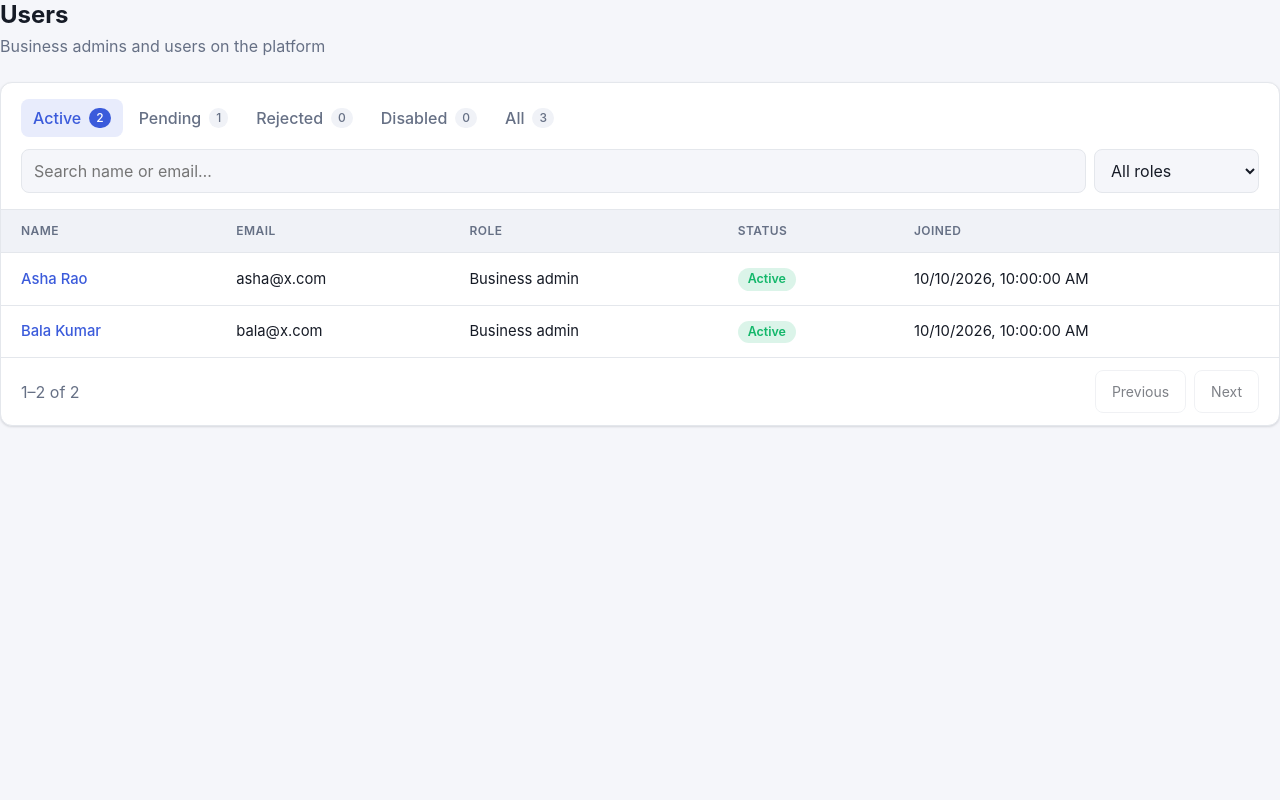
Test case: UsersPage › opens a details panel and closes it
The width and height of the screenshot is (1280, 800).
Click the tab "All 3". click: (530, 118)
box: [493,99,566,137]
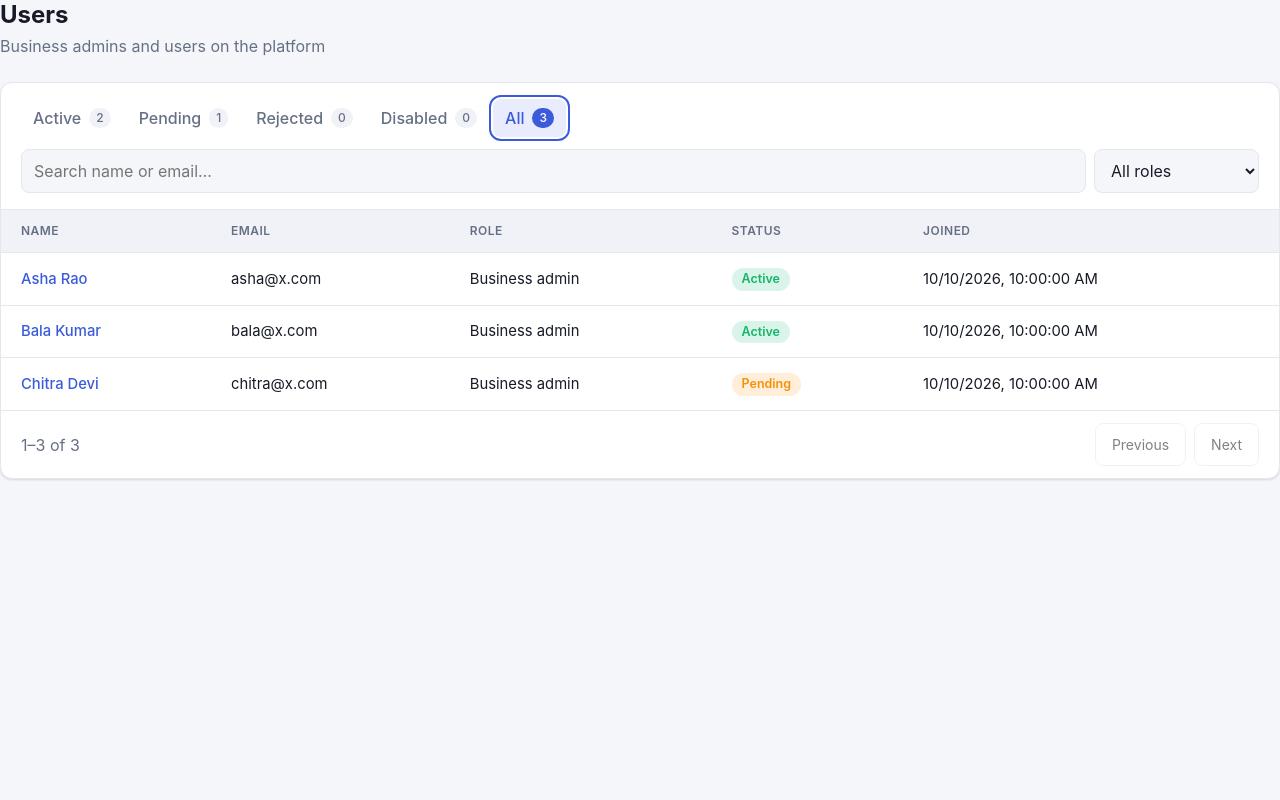
Click the button "Chitra Devi". click: (60, 384)
box: [21,373,99,395]
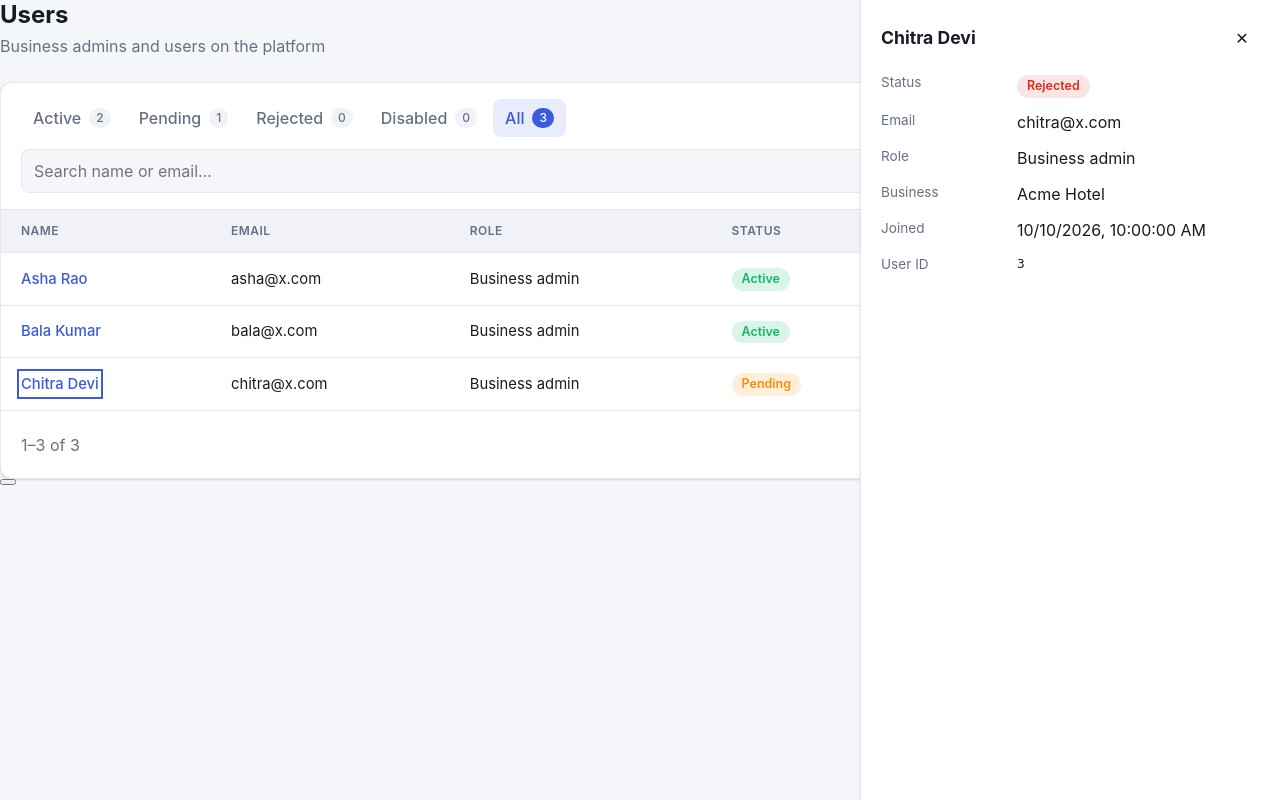
expect the text "Acme Hotel" is shown: met, box [1017,184,1105,204]
Click the button named "Close". click: (1242, 38)
box: [1224,20,1260,56]
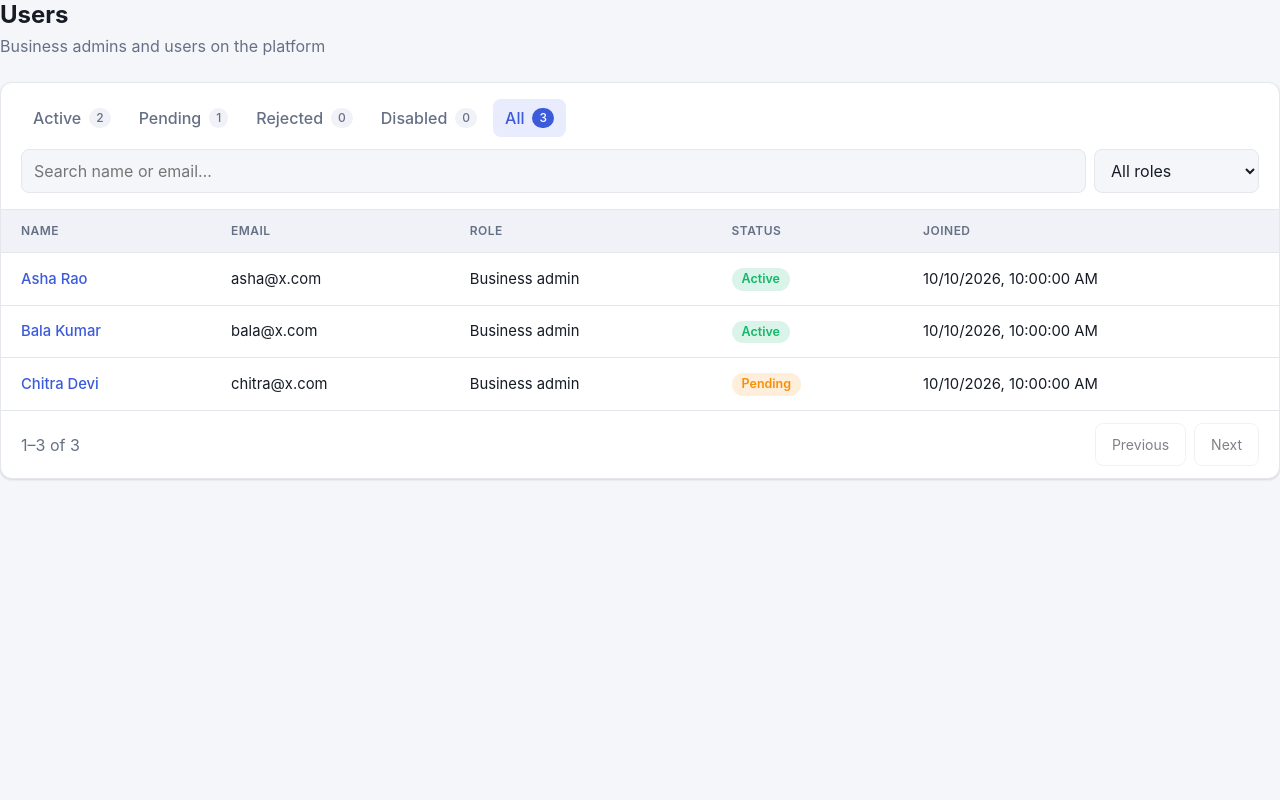
expect the dialog is gone: met
